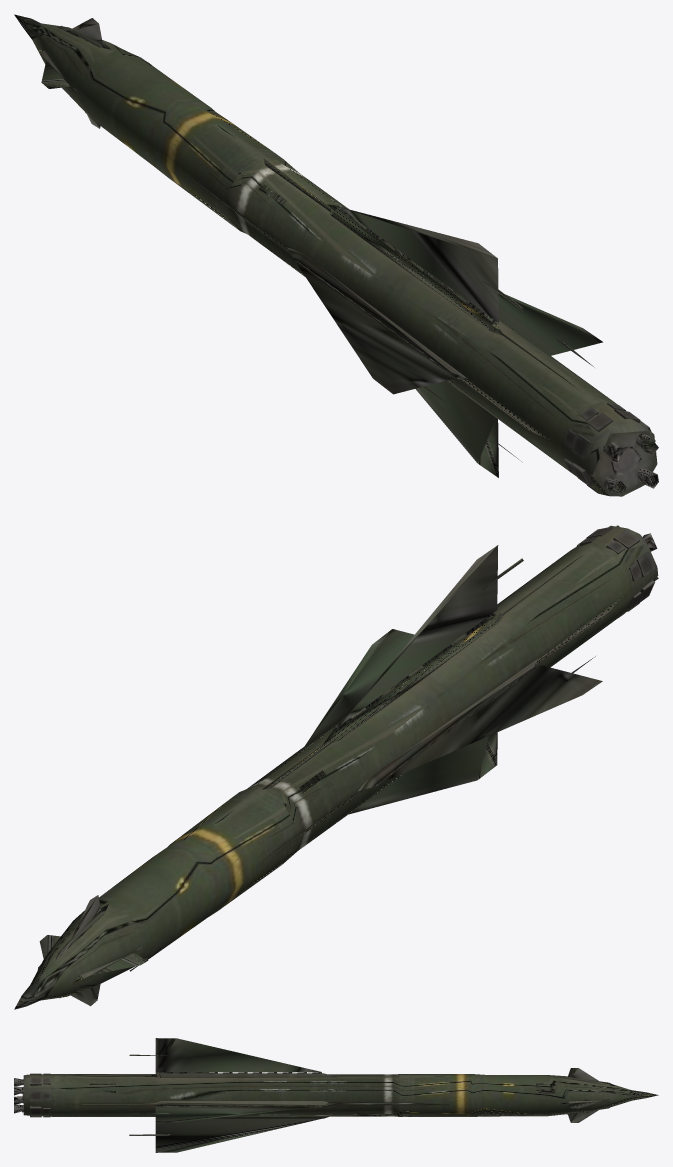
File: msl_roland_lo.glb
The picture shows the model from 3 angles, top to bottom: view 1: azimuth 30°, elevation 25°; view 2: azimuth 150°, elevation 25°; view 3: azimuth 270°, elevation 25°; orthographic projection. The views are drawn at different scales.
Parts seen in each view (by area): view 1: body|RL_msl; view 2: body|RL_msl; view 3: body|RL_msl.
Boxes of the visible parts, left/top/right/bottom form: body|RL_msl: left=14, top=14, right=658, bottom=496; body|RL_msl: left=14, top=525, right=658, bottom=1009; body|RL_msl: left=14, top=1038, right=658, bottom=1152.
Bounding box in the file's own units: 0.47 × 0.47 × 2.4.
1 material, 1 textured.
